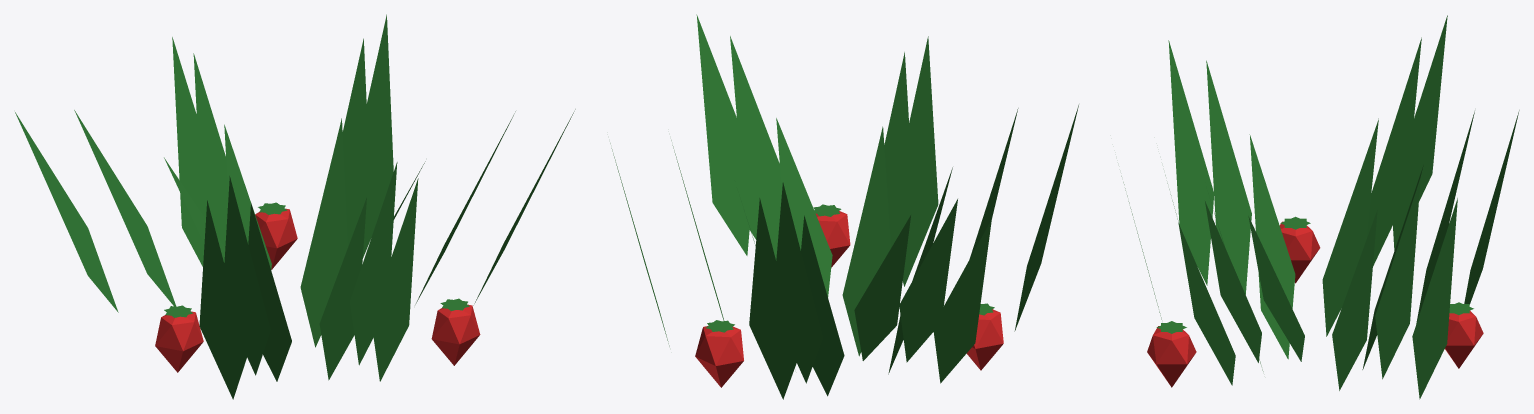
File: strawberry_ready.glb
3 renders of one model, left to right at view 1: azimuth 30°, elevation 25°; view 2: azimuth 150°, elevation 25°; view 3: azimuth 270°, elevation 25°, orthographic.
Parts seen in each view (by area): view 1: Plane.057, Plane.050, Plane.053, Plane.044, Plane.055, Plane.060, Plane.061, Plane.045, Plane.056, Plane.052, Plane.048, Plane.051 (+8 smaller); view 2: Plane.054, Plane.059, Plane.052, Plane.053, Plane.056, Plane.051, Plane.045, Plane.046, Plane.047, Plane.060, Plane.049, Plane.058 (+6 smaller); view 3: Plane.050, Plane.044, Plane.046, Plane.047, Plane.055, Plane.061, Plane.051, Plane.057, Plane.048, Plane.059, Plane.054, Plane.058 (+6 smaller).
Boxes of the visible parts, <box> form: Plane.057: <box>300,118,347,347</box>; Plane.050: <box>199,200,248,399</box>; Plane.053: <box>371,178,418,381</box>; Plane.044: <box>224,176,270,375</box>; Plane.055: <box>362,14,393,258</box>; Plane.060: <box>350,162,397,365</box>; Plane.061: <box>342,38,370,246</box>; Plane.045: <box>193,53,228,247</box>; Plane.056: <box>319,197,366,380</box>; Plane.052: <box>172,37,204,266</box>; Plane.048: <box>248,203,291,381</box>; Plane.051: <box>15,112,118,312</box>; Plane.054: <box>696,14,749,255</box>; Plane.059: <box>730,36,781,260</box>; Plane.052: <box>749,198,799,399</box>; Plane.053: <box>902,36,938,286</box>; Plane.056: <box>842,126,890,356</box>; Plane.051: <box>933,219,991,383</box>; Plane.045: <box>776,182,822,383</box>; Plane.046: <box>899,199,957,362</box>; Plane.047: <box>854,215,910,360</box>; Plane.060: <box>884,52,914,247</box>; Plane.049: <box>801,215,844,396</box>; Plane.058: <box>776,118,832,296</box>; Plane.050: <box>1168,40,1214,285</box>; Plane.044: <box>1206,60,1251,294</box>; Plane.046: <box>1366,37,1421,266</box>; Plane.047: <box>1322,118,1378,336</box>; Plane.055: <box>1412,198,1457,399</box>; Plane.061: <box>1375,178,1420,379</box>; Plane.051: <box>1393,15,1447,250</box>; Plane.057: <box>1332,209,1377,390</box>; Plane.048: <box>1249,134,1295,359</box>; Plane.059: <box>1205,201,1261,362</box>; Plane.054: <box>1178,223,1235,385</box>; Plane.058: <box>1248,216,1304,361</box>.
Size of the model in its own units: 1.18 by 0.682 by 0.988.
